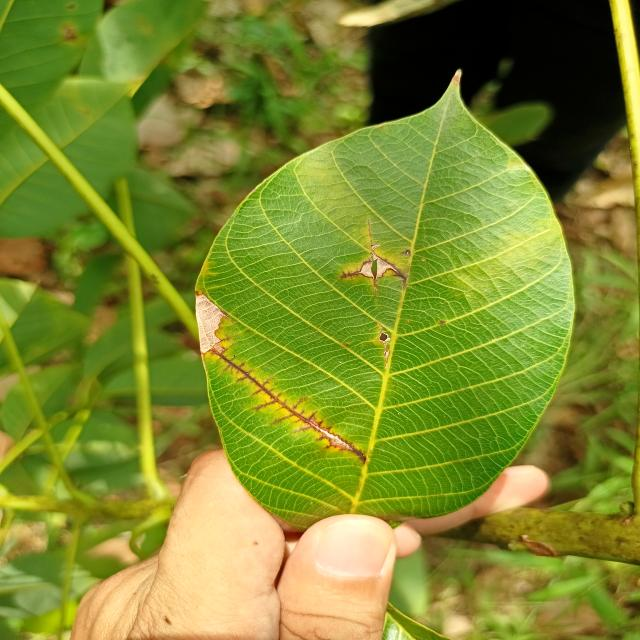Corynespora: (210, 345, 368, 464), (340, 270, 360, 280)
Leaf-Blight: (196, 293, 223, 353), (373, 254, 398, 277), (361, 260, 373, 278), (370, 244, 380, 250)
